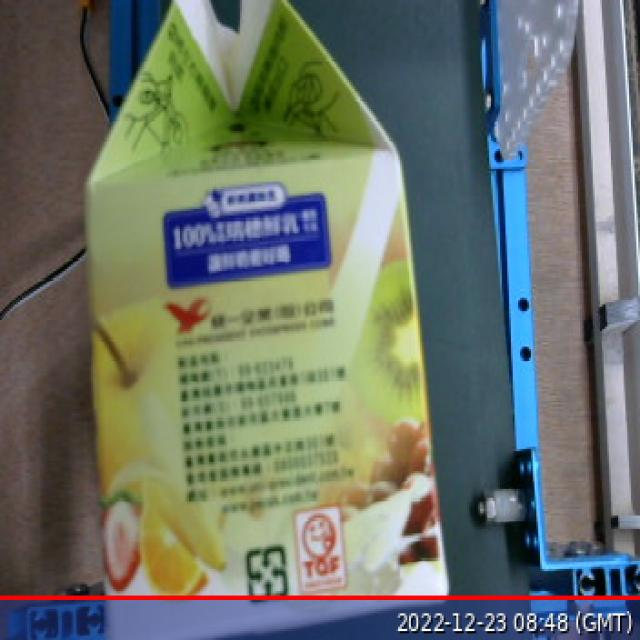non_white_jug: (65, 0, 472, 640)
